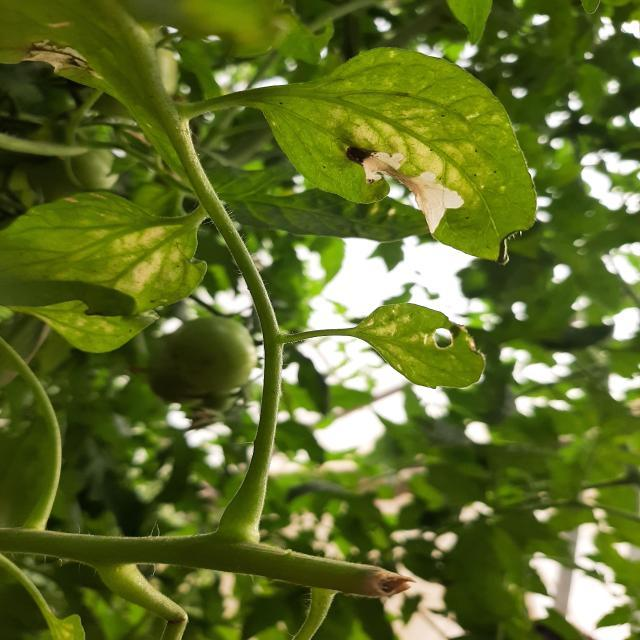Tuta absoluta: (350, 125, 471, 238)
